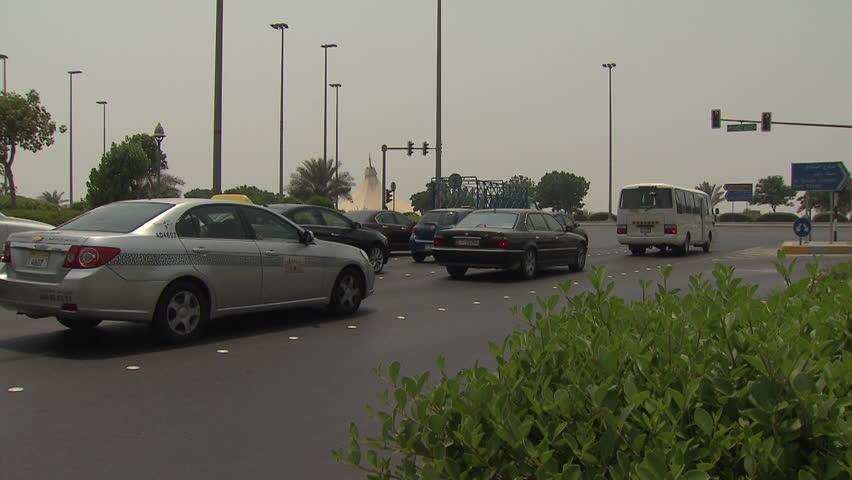bus: (616, 183, 720, 256)
car: (1, 193, 376, 345), (177, 203, 388, 274), (432, 205, 588, 279), (1, 198, 61, 295), (409, 206, 503, 262), (334, 209, 430, 253), (534, 212, 589, 261)
